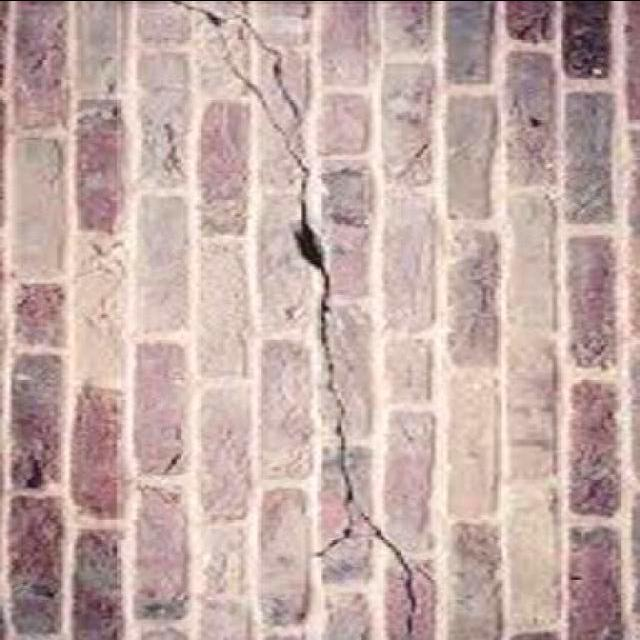SurfaceCrack: (166, 0, 478, 634)
